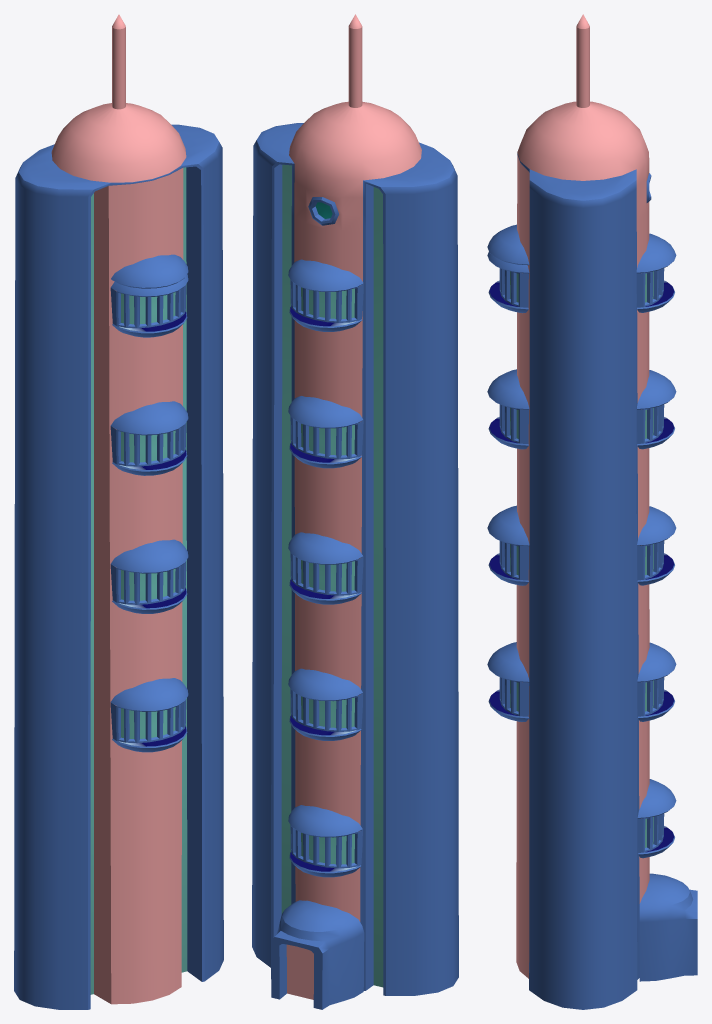
File: SM_Skyscraper_28.fbx
3 renders of one model, left to right at view 1: azimuth 30°, elevation 25°; view 2: azimuth 150°, elevation 25°; view 3: azimuth 270°, elevation 25°, orthographic.
Visible parts, largest first — view 1: SM_Skyscraper_28; view 2: SM_Skyscraper_28; view 3: SM_Skyscraper_28.
Boxes of the visible parts, <box> form: SM_Skyscraper_28: <box>14,14,223,1009</box>; SM_Skyscraper_28: <box>252,14,458,1009</box>; SM_Skyscraper_28: <box>487,14,697,1009</box>.
Size of the model in its own units: 535 by 2476 by 498.
